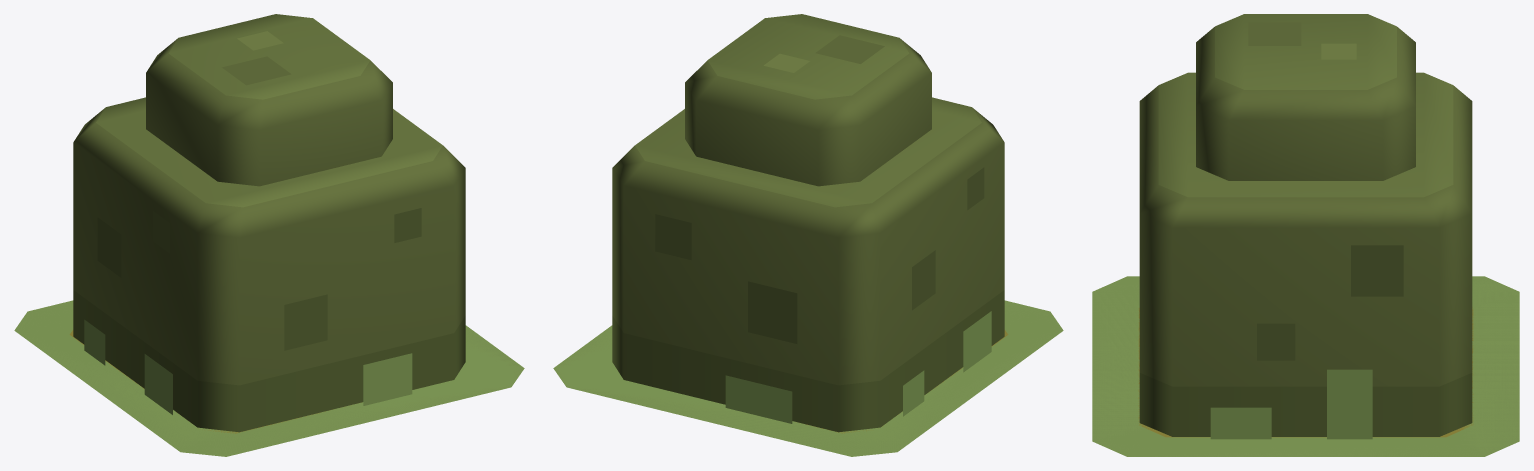
File: B_water2_rock00.fbx
3 renders of one model, left to right at view 1: azimuth 30°, elevation 25°; view 2: azimuth 150°, elevation 25°; view 3: azimuth 270°, elevation 25°, orthographic. The views are drawn at different scales.
Parts seen in each view (by area): view 1: model 1, model; view 2: model 1, model; view 3: model 1, model.
Part boxes in pixels (x1=…): model 1: x1=15, y1=14, x2=524, y2=456; model: x1=14, y1=300, x2=524, y2=456; model 1: x1=554, y1=14, x2=1062, y2=456; model: x1=553, y1=300, x2=1063, y2=456; model 1: x1=1092, y1=14, x2=1519, y2=456; model: x1=1092, y1=276, x2=1519, y2=456.
Bounding box in the file's own units: 1.92 × 1.6 × 1.92.
